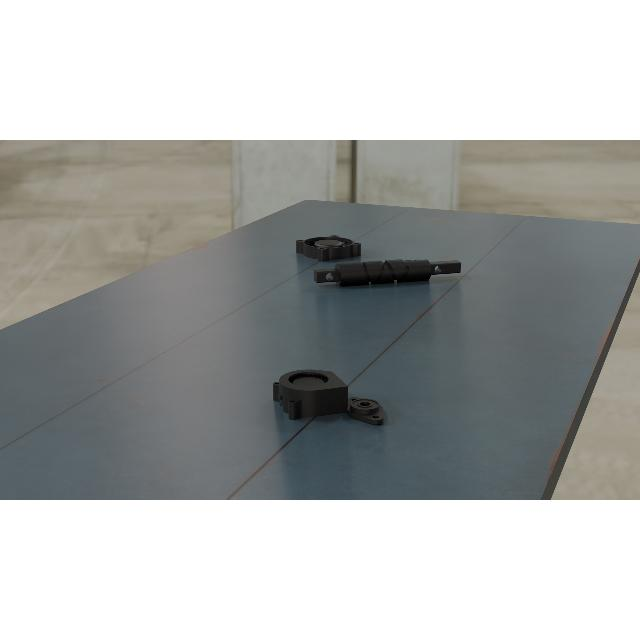Pieza1: (312, 253, 463, 290)
Pieza2: (336, 391, 396, 427)
Pieza3: (270, 366, 348, 422)
Pieza4: (294, 235, 364, 263)
